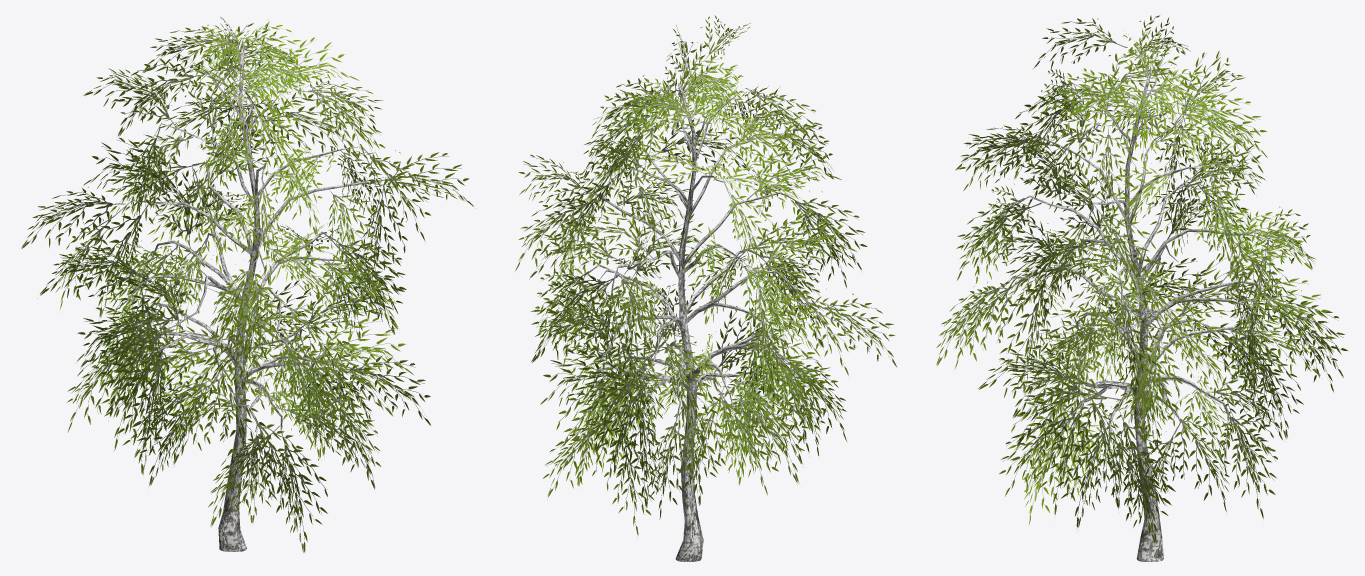
File: birch.glb
3 views of the same model, side by side, from view 1: azimuth 30°, elevation 25°; view 2: azimuth 150°, elevation 25°; view 3: azimuth 270°, elevation 25° (orthographic). The views are drawn at different scales.
Parts seen in each view (by area): view 1: birch; view 2: birch; view 3: birch.
Boxes of the visible parts, x1,y1,x2,y2 form: birch: [21, 17, 475, 552]; birch: [515, 15, 896, 561]; birch: [936, 15, 1347, 561].
Size of the model in its own units: 4.08 by 5.4 by 3.84.
2 materials, 2 textured.
